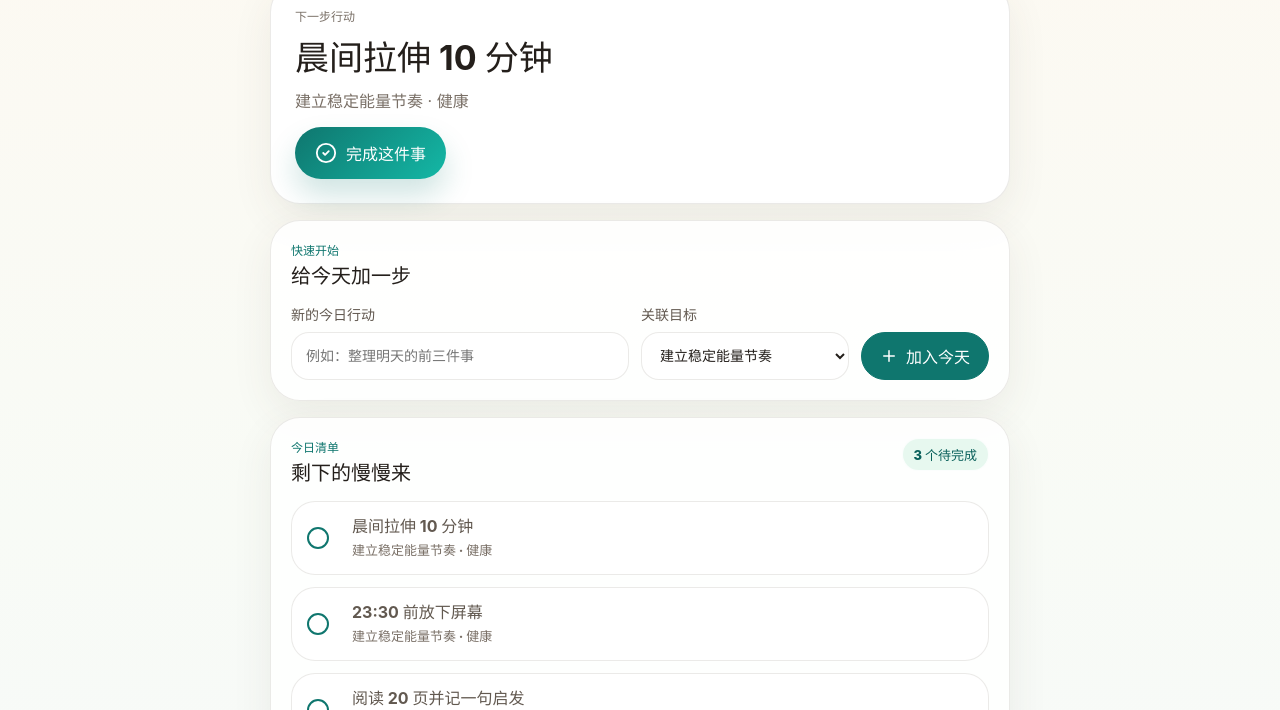
Test case: Growth OS app › adds a daily action directly from the Today view
The image size is (1280, 710).
(page scrolled)
Type "整理明天的前三件事" into the field labelled "新的今日行动".
click(460, 356); type("整理明天的前三件事")  # box [291,332,629,380]
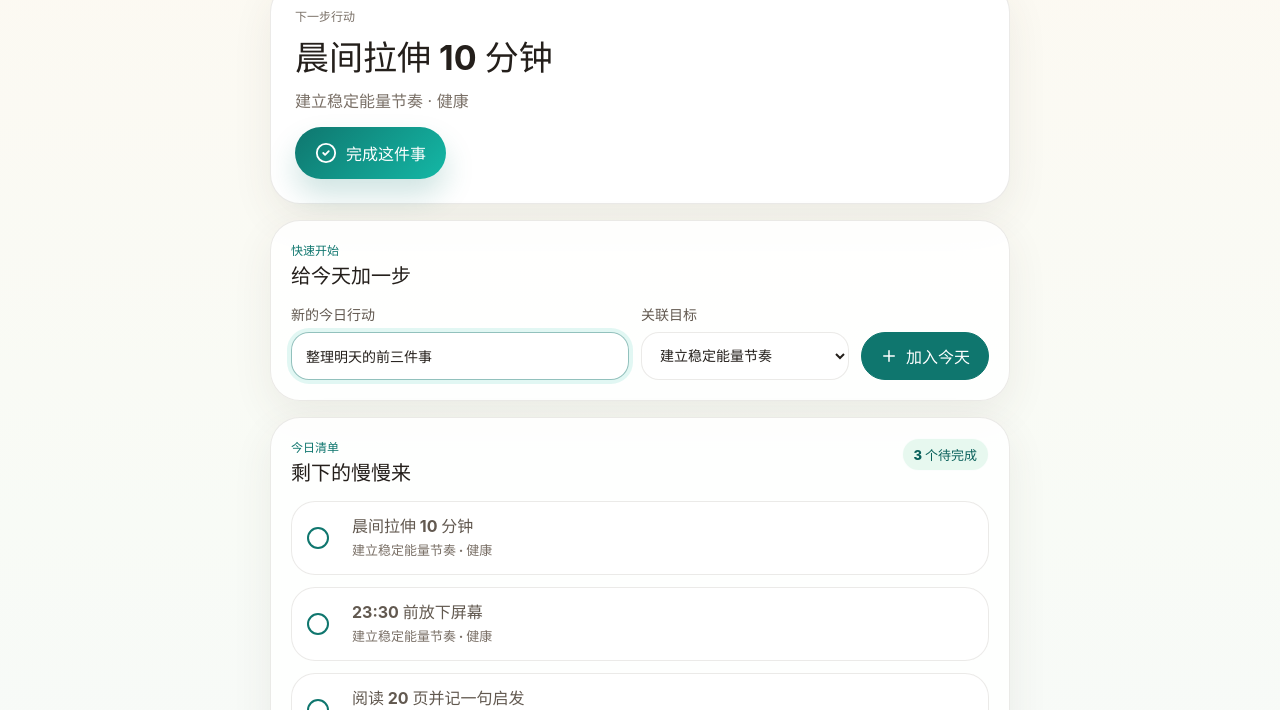
Click the button "加入今天".
click(925, 356)  # box [861,332,989,380]
(page scrolled)
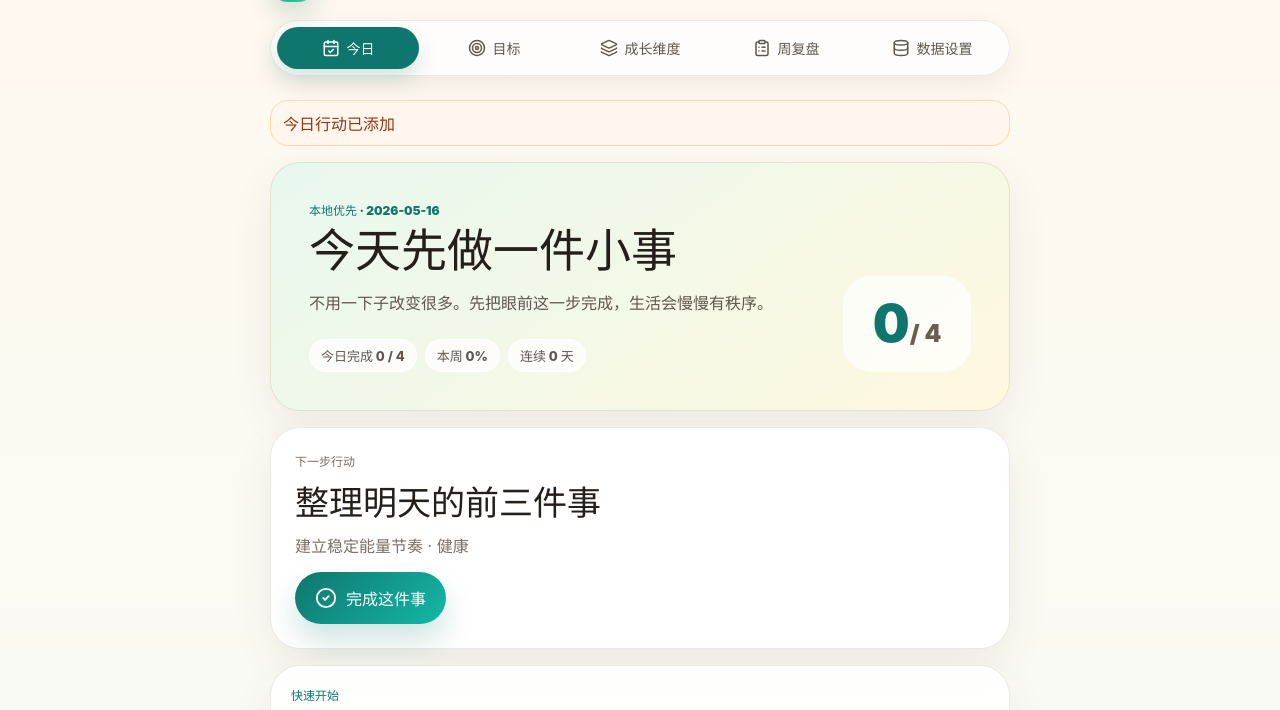
Now the text "今日完成 0 / 4" is shown, box [309,339,417,372]
